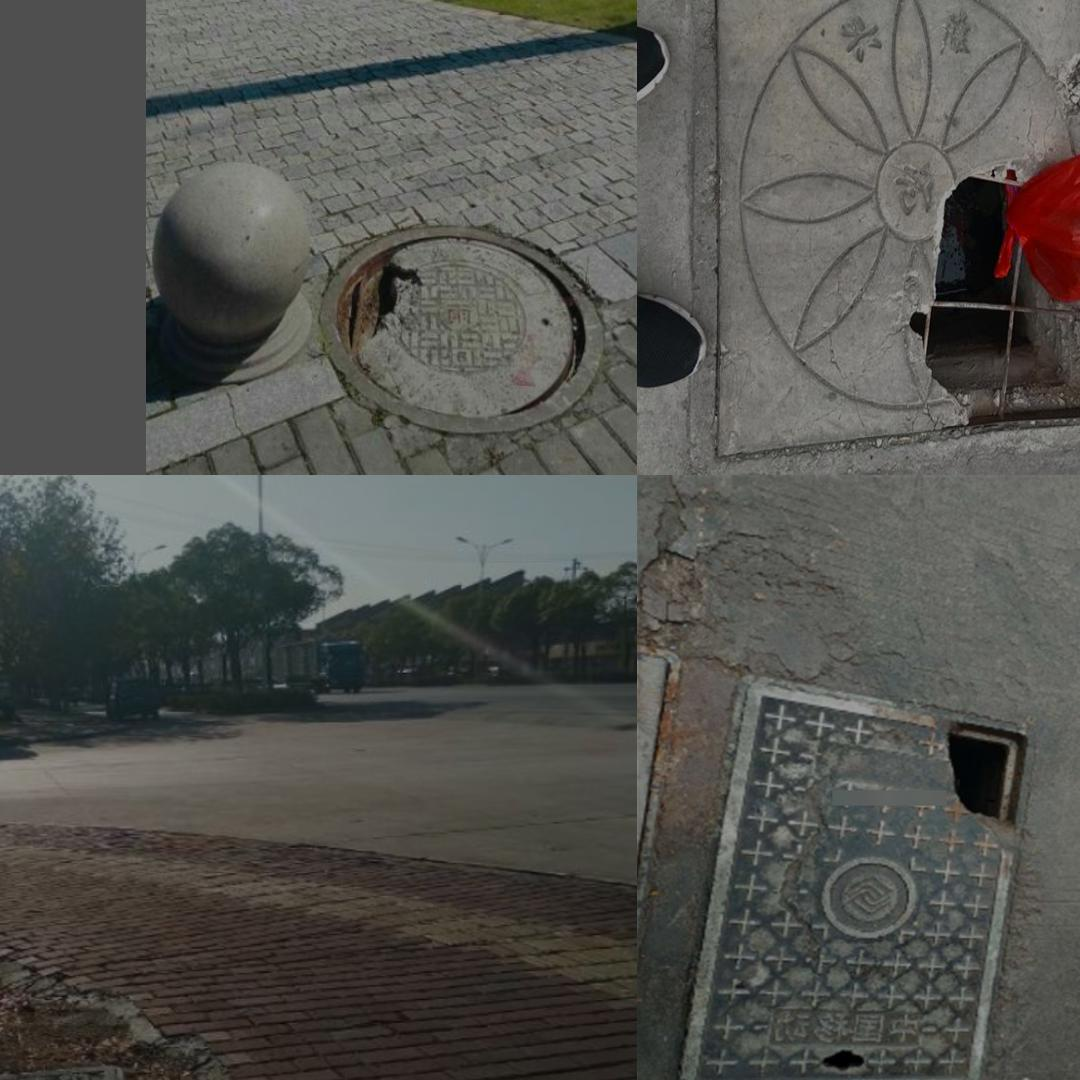broke: (681, 0, 1080, 475), (675, 674, 1036, 1080), (316, 220, 603, 435), (0, 1064, 152, 1080)
